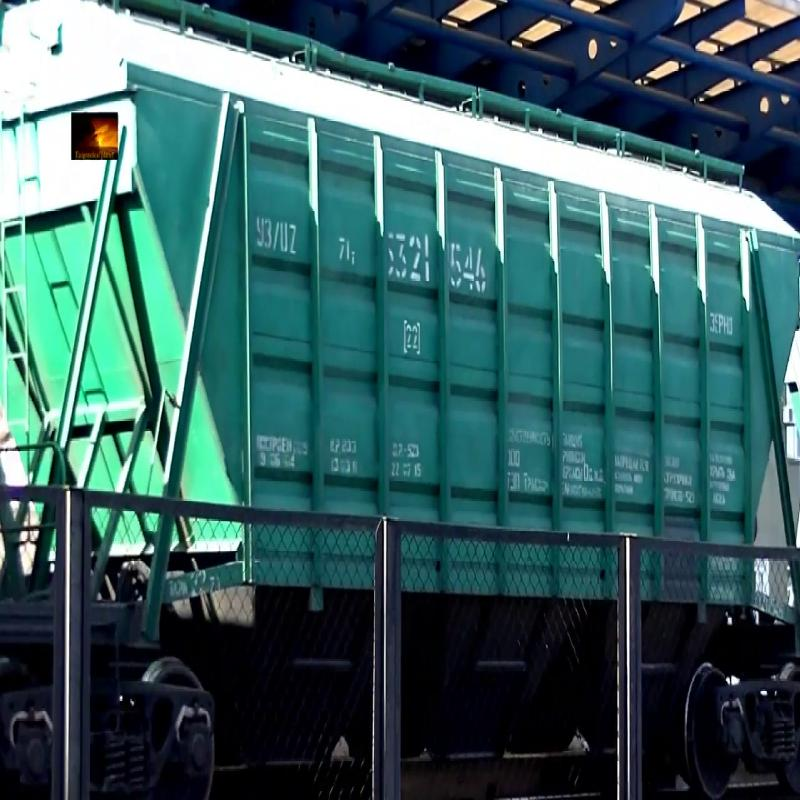train: (4, 7, 800, 778)
